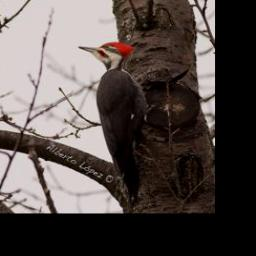Woodpecker: (74, 42, 152, 202)
